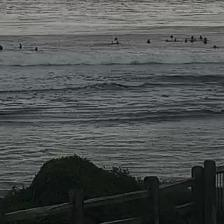surfer: (110, 40, 119, 44), (212, 44, 218, 48), (146, 39, 150, 44), (165, 39, 171, 42), (34, 47, 38, 51), (114, 37, 118, 41), (204, 40, 208, 44), (0, 45, 3, 50), (204, 36, 207, 41), (170, 34, 173, 38), (174, 38, 177, 42), (191, 36, 194, 40), (200, 35, 202, 40), (20, 44, 22, 48), (185, 38, 187, 42), (190, 40, 193, 42)
